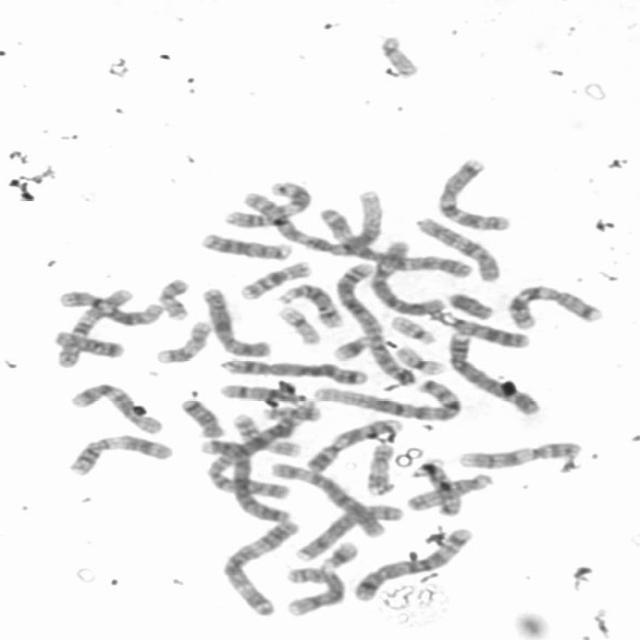A1: (240, 187, 383, 258), (311, 378, 463, 424)
A2: (207, 396, 321, 501), (334, 262, 420, 387)
A3: (319, 207, 474, 279), (220, 518, 302, 616)
B4: (198, 436, 293, 524), (447, 328, 542, 416)
B5: (354, 527, 474, 603), (218, 356, 370, 387)
C10: (54, 286, 134, 369), (414, 214, 504, 285)
C11: (69, 434, 174, 478), (223, 182, 314, 231)
C12: (69, 381, 163, 436), (60, 289, 166, 327)
C6: (268, 461, 391, 540), (369, 238, 447, 318)
C7: (434, 156, 512, 231), (506, 283, 603, 332)
C8: (293, 503, 405, 562), (285, 566, 346, 620)
C9: (304, 416, 404, 474), (457, 440, 587, 470)
D13: (429, 306, 533, 349), (200, 232, 293, 260)
D14: (276, 281, 343, 328), (218, 383, 308, 405)
D15: (405, 472, 495, 512), (407, 459, 460, 518)
E16: (230, 412, 304, 459), (236, 260, 315, 301)
E17: (152, 322, 212, 364), (365, 441, 395, 497)
E18: (178, 396, 228, 440), (54, 331, 126, 358)
F19: (276, 305, 324, 347), (395, 346, 447, 378)
F20: (156, 276, 194, 321), (261, 403, 320, 422)
G21: (319, 540, 360, 568), (332, 335, 373, 362)
G22: (379, 34, 420, 78), (388, 314, 436, 346)
X: (202, 288, 274, 358)
Y: (446, 291, 494, 322)
